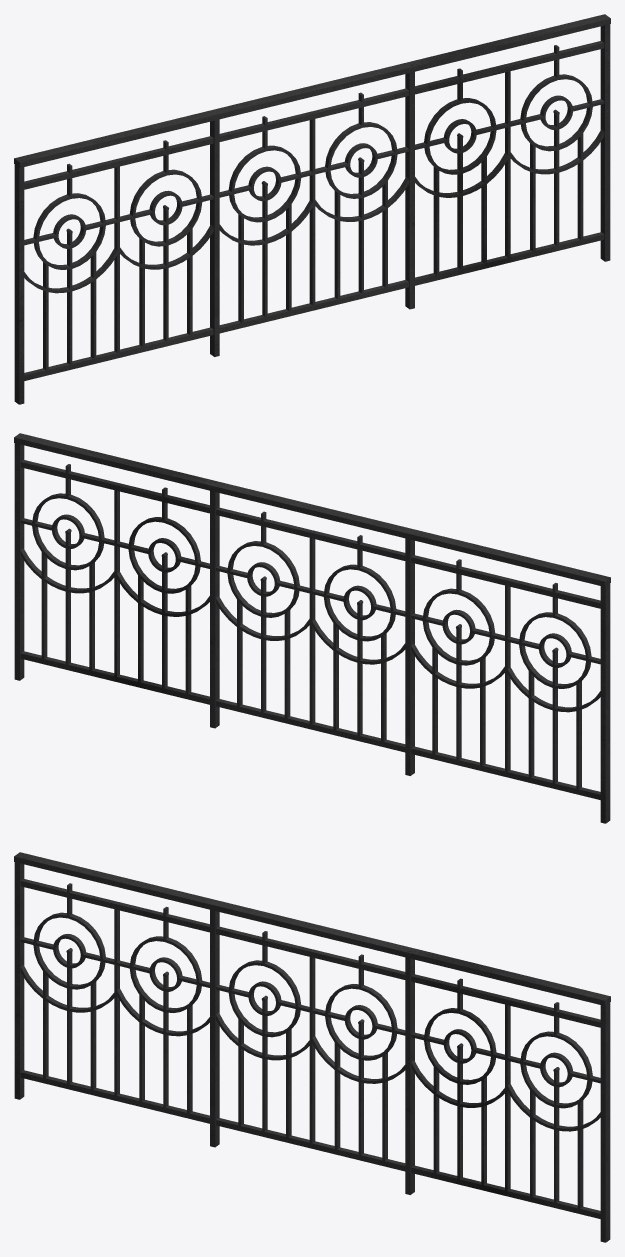
The model's file is railing 1.fbx.
3 views of the same model, one above another, from view 1: azimuth 30°, elevation 25°; view 2: azimuth 150°, elevation 25°; view 3: azimuth 330°, elevation 25° (orthographic).
Parts seen in each view (by area): view 1: Railing 1; view 2: Railing 1; view 3: Railing 1.
Part boxes in pixels (left/top/right/bottom): Railing 1: left=14, top=14, right=610, bottom=404; Railing 1: left=14, top=433, right=610, bottom=823; Railing 1: left=14, top=852, right=610, bottom=1242.
Size of the model in its own units: 229 by 90 by 4.
1 material, 1 textured.
